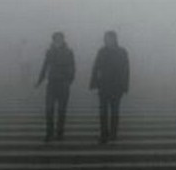person: (89, 29, 130, 144), (34, 31, 76, 142)
